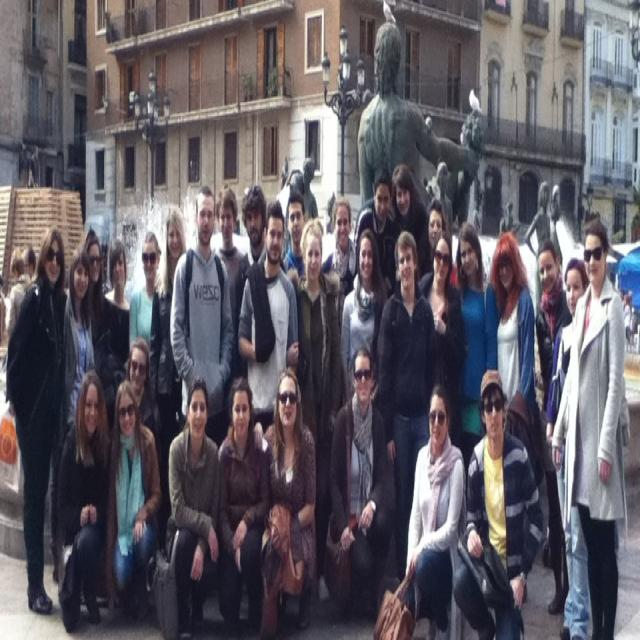body: (548, 214, 634, 638), (351, 12, 491, 260), (448, 361, 546, 638), (0, 225, 68, 613), (370, 376, 465, 638), (284, 211, 346, 611), (374, 228, 438, 587), (318, 343, 397, 624), (252, 363, 319, 639), (153, 373, 223, 636), (545, 254, 590, 640), (170, 183, 234, 454), (532, 232, 574, 620), (103, 376, 164, 633), (54, 365, 112, 634), (215, 374, 273, 638), (236, 198, 302, 430), (148, 204, 187, 552), (454, 219, 499, 503), (417, 228, 467, 464), (235, 182, 287, 386), (498, 179, 566, 324), (489, 230, 538, 428), (340, 226, 390, 407), (62, 242, 97, 456), (212, 186, 247, 391), (389, 161, 435, 299), (353, 165, 398, 296), (320, 193, 361, 332), (126, 229, 162, 365), (125, 337, 163, 461), (278, 145, 320, 246), (104, 236, 132, 376), (81, 226, 110, 344), (5, 246, 32, 341), (282, 190, 310, 278), (426, 197, 449, 273), (0, 272, 9, 360), (22, 240, 37, 290)
